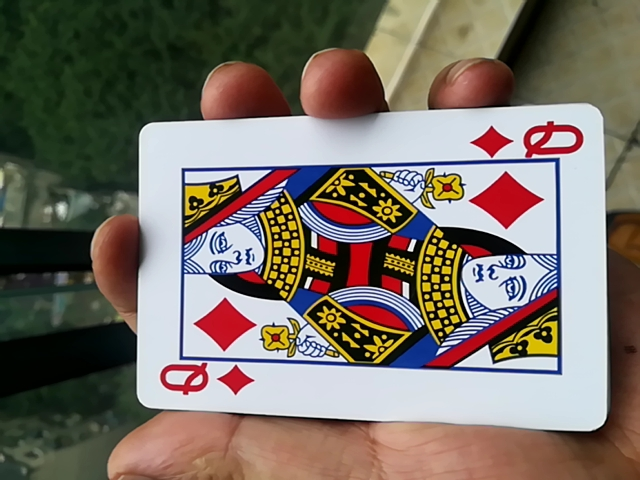fk q: (112, 112, 604, 436)
